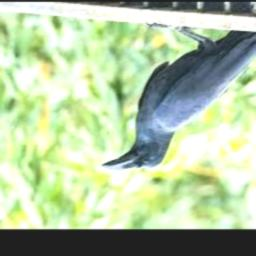Crow: (100, 3, 256, 172)
